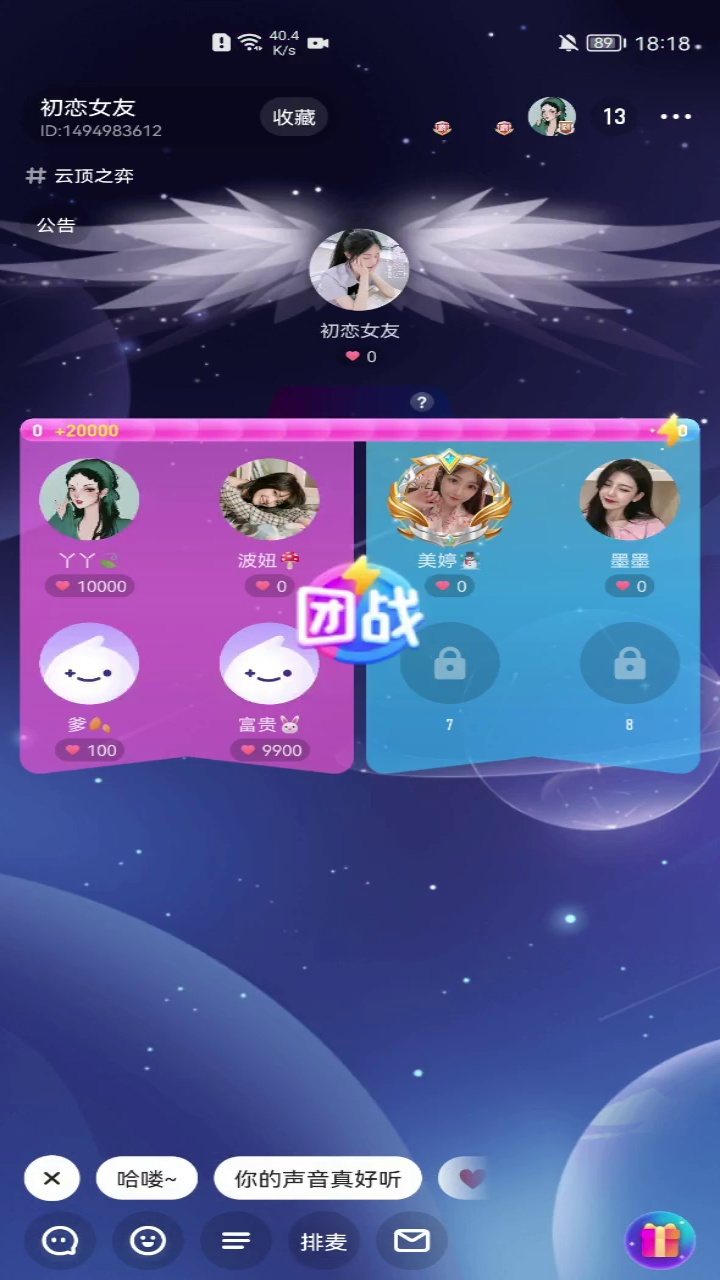avatar: (32, 617, 144, 709), (217, 616, 328, 706)
